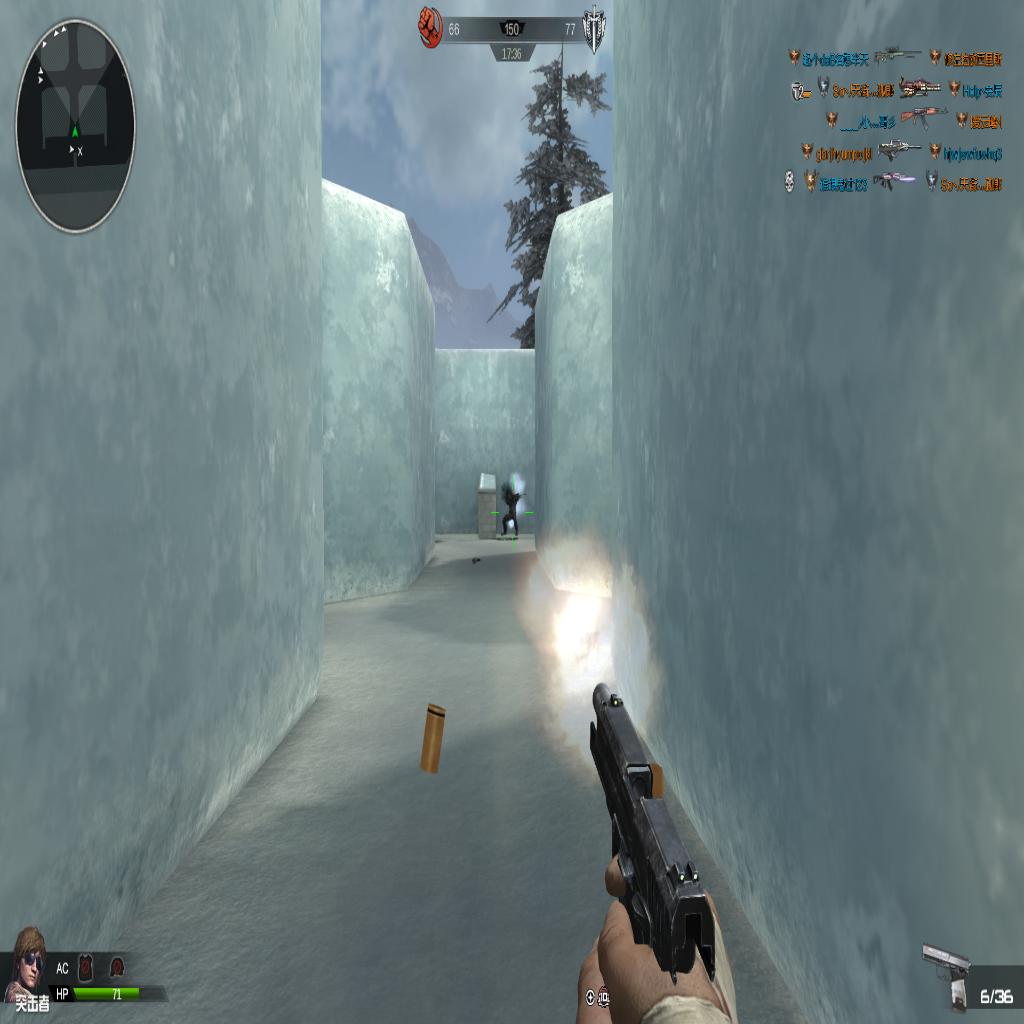ct: (502, 473, 524, 538)
